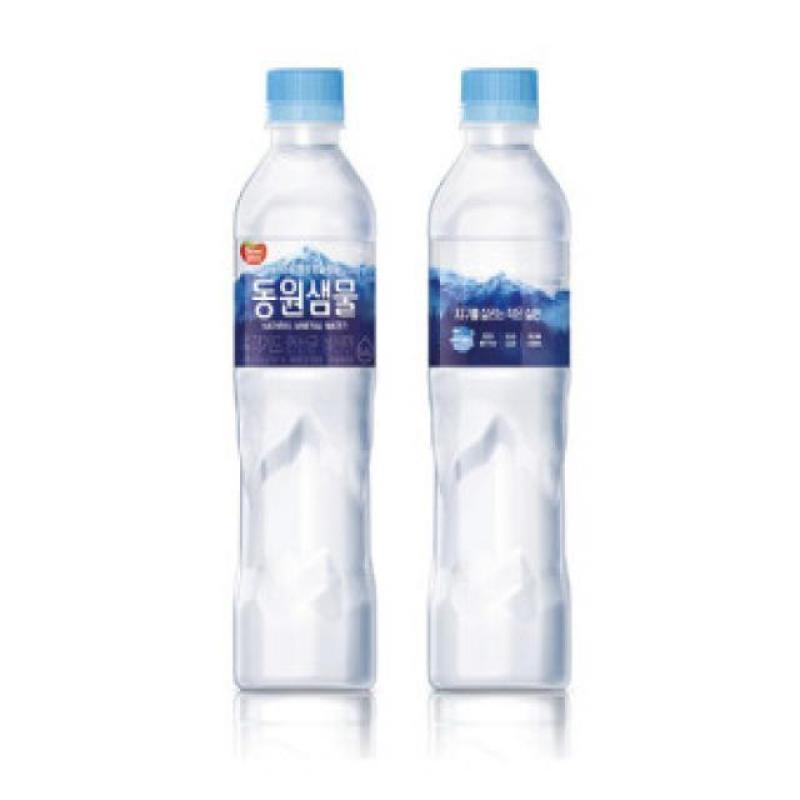botella: (426, 68, 575, 698), (232, 67, 380, 692)
